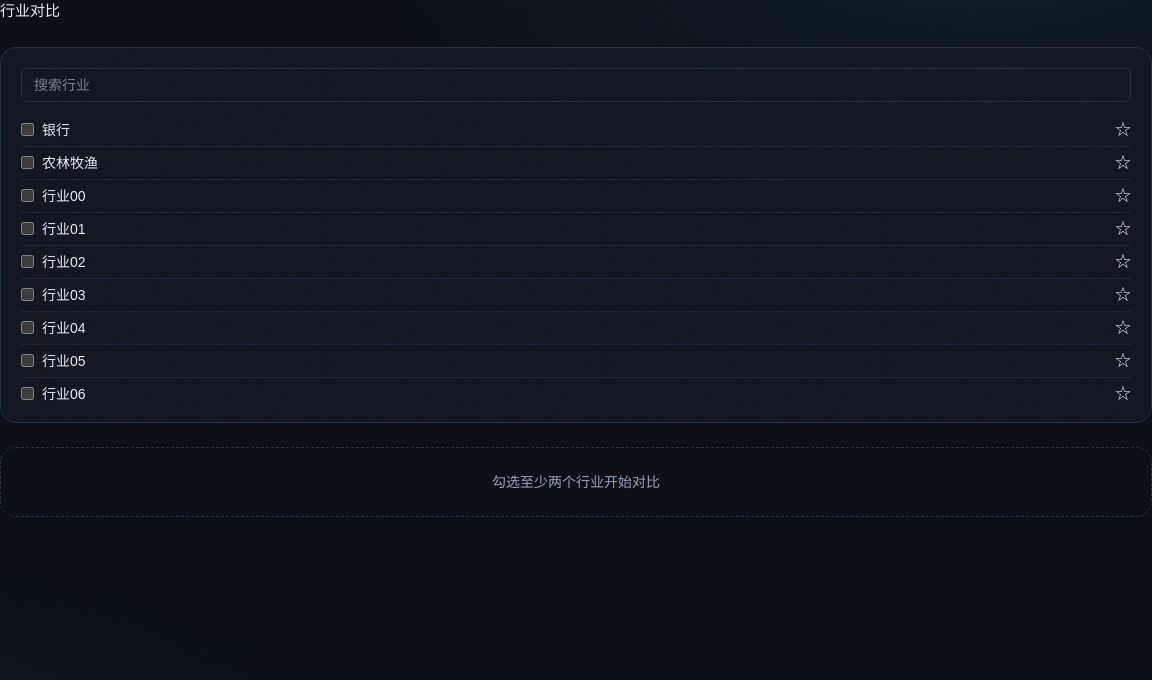
Scenario: IndustryCompareView 对比表 › 勾选 ≥2 行渲染并排对比表：行=选中行业、列=七指标 + 景气，null 显示「—」
Click the checkbox labelled "银行".
click(28, 130)  # box [21,123,34,136]
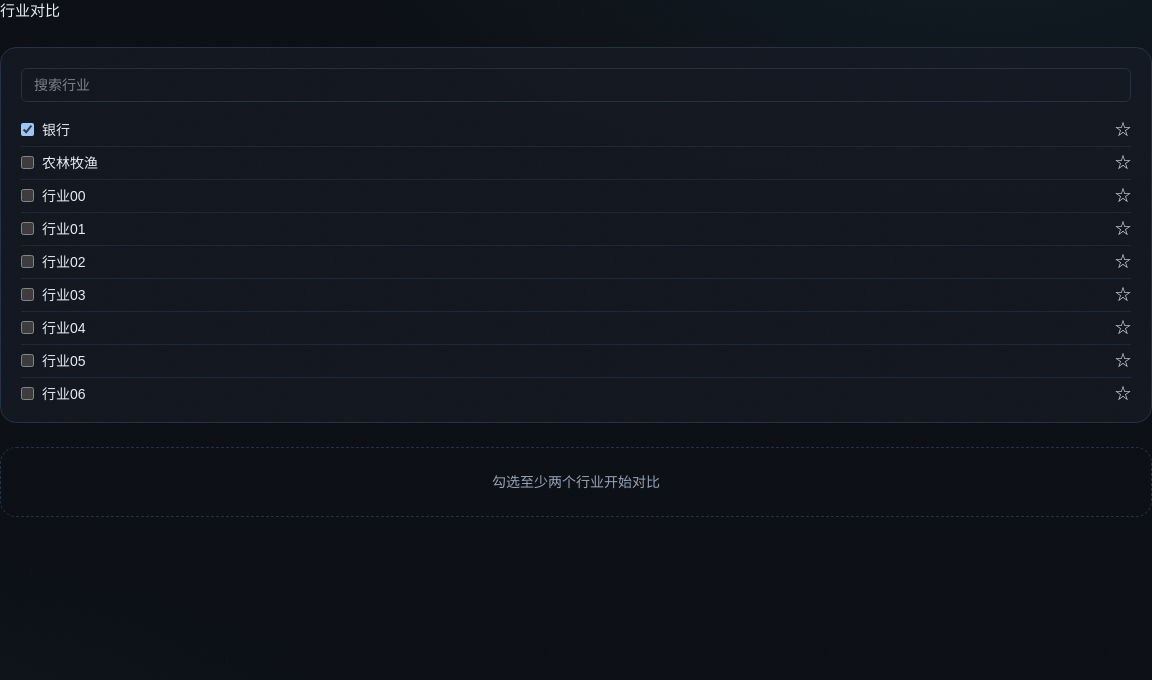
Click the checkbox labelled "农林牧渔".
click(28, 162)  # box [21,156,34,169]
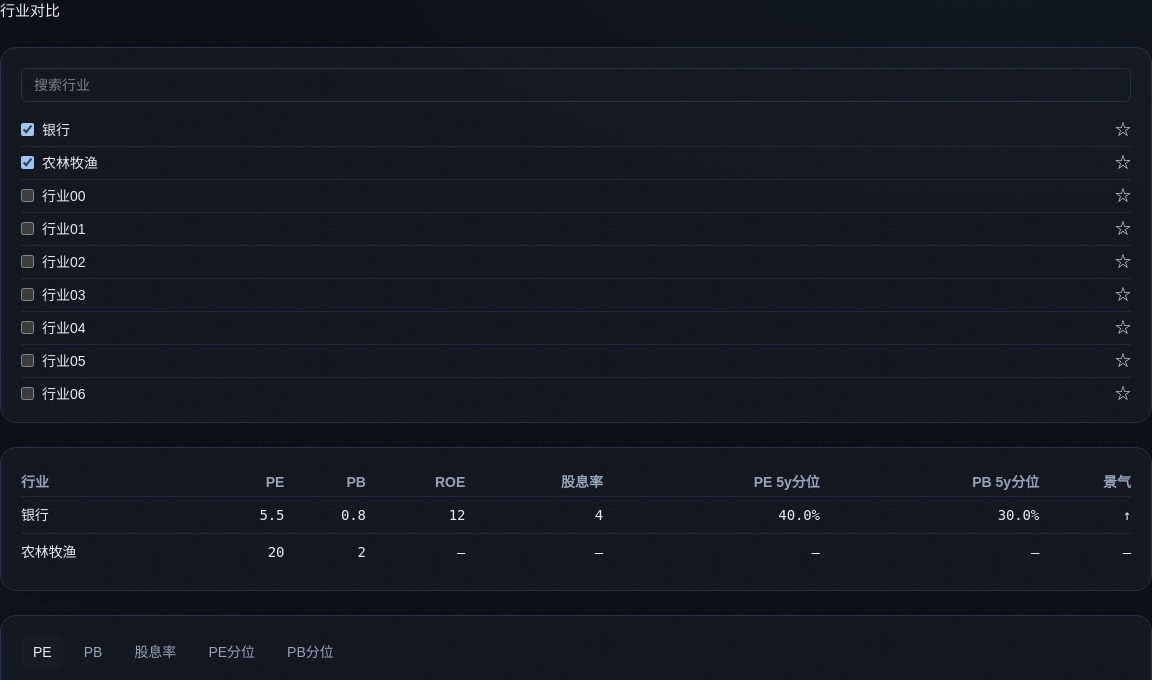
Expected: the number of rows is 3, [21,468,1131,496]; [21,496,1131,533]; [21,533,1131,570]
Expected: the row "行业 PE PB ROE 股息率 PE 5y分位 PB 5y分位 景气" is shown, [21,468,1131,496]
Expected: the text "5.5" is shown, [203,496,284,533]
